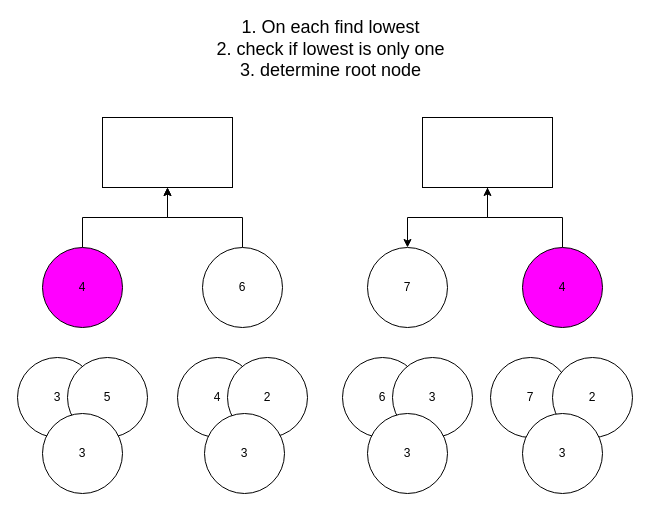
This 650x511 diagram has some shape labels left out. Here are the shapes that lost their labels. From the top down, the box of each, then its label:
(102, 116, 232, 188): Node1
(422, 116, 552, 188): Node2
